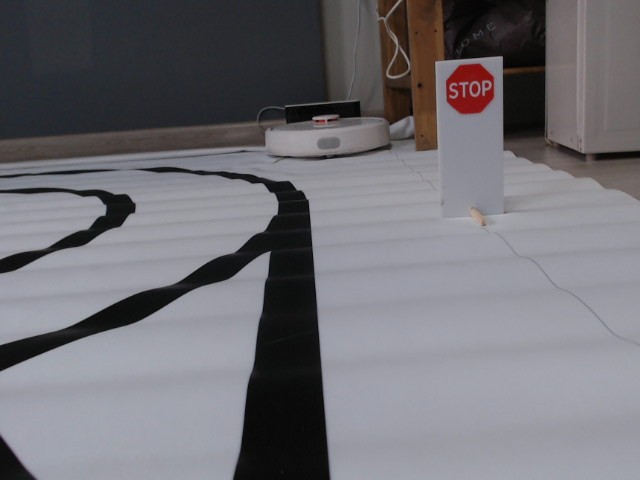Stop: (446, 62, 495, 115)
